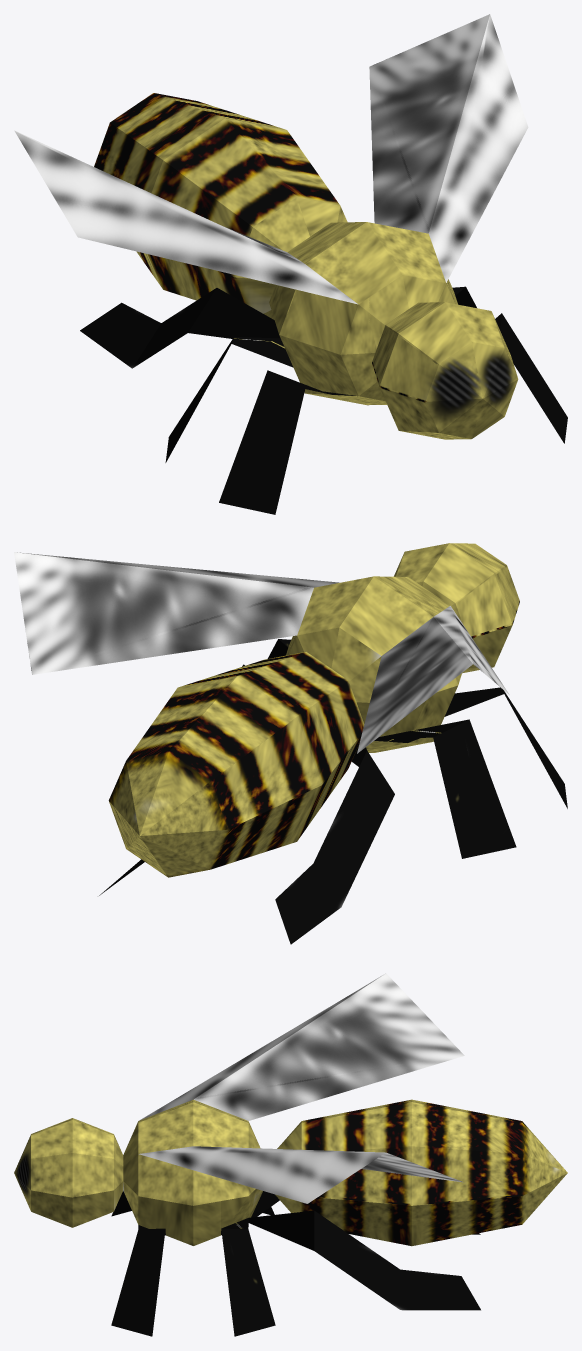
File: Bee.fbx
3 renders of one model, top to bottom at view 1: azimuth 30°, elevation 25°; view 2: azimuth 150°, elevation 25°; view 3: azimuth 270°, elevation 25°, orthographic. The views are drawn at different scales.
Parts seen in each view (by area): view 1: Sphere; view 2: Sphere; view 3: Sphere.
Boxes of the visible parts, x1,y1,x2,y2 form: Sphere: (14,14,567,514); Sphere: (14,543,567,944); Sphere: (14,973,567,1336).
Size of the model in its own units: 544 by 302 by 710.
Materials: 1 (1 with a texture image).
